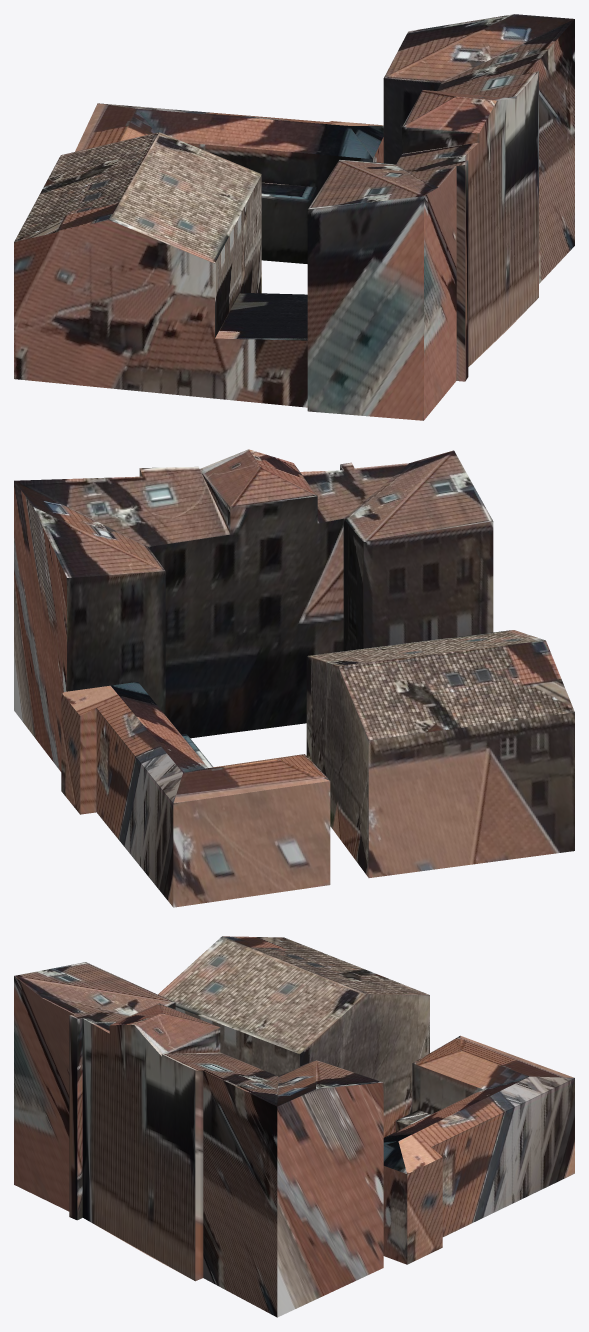
The picture shows the model from 3 angles, top to bottom: view 1: azimuth 30°, elevation 25°; view 2: azimuth 150°, elevation 25°; view 3: azimuth 270°, elevation 25°; orthographic projection. The views are drawn at different scales.
Visible parts, largest first — view 1: Z_UP; view 2: Z_UP; view 3: Z_UP.
Part boxes in pixels (bbox=[...]): Z_UP: bbox=[14, 14, 574, 420]; Z_UP: bbox=[14, 449, 574, 907]; Z_UP: bbox=[14, 936, 574, 1317].
Size of the model in its own units: 38.35 by 15.73 by 35.94.
Materials: 2 (1 with a texture image).
